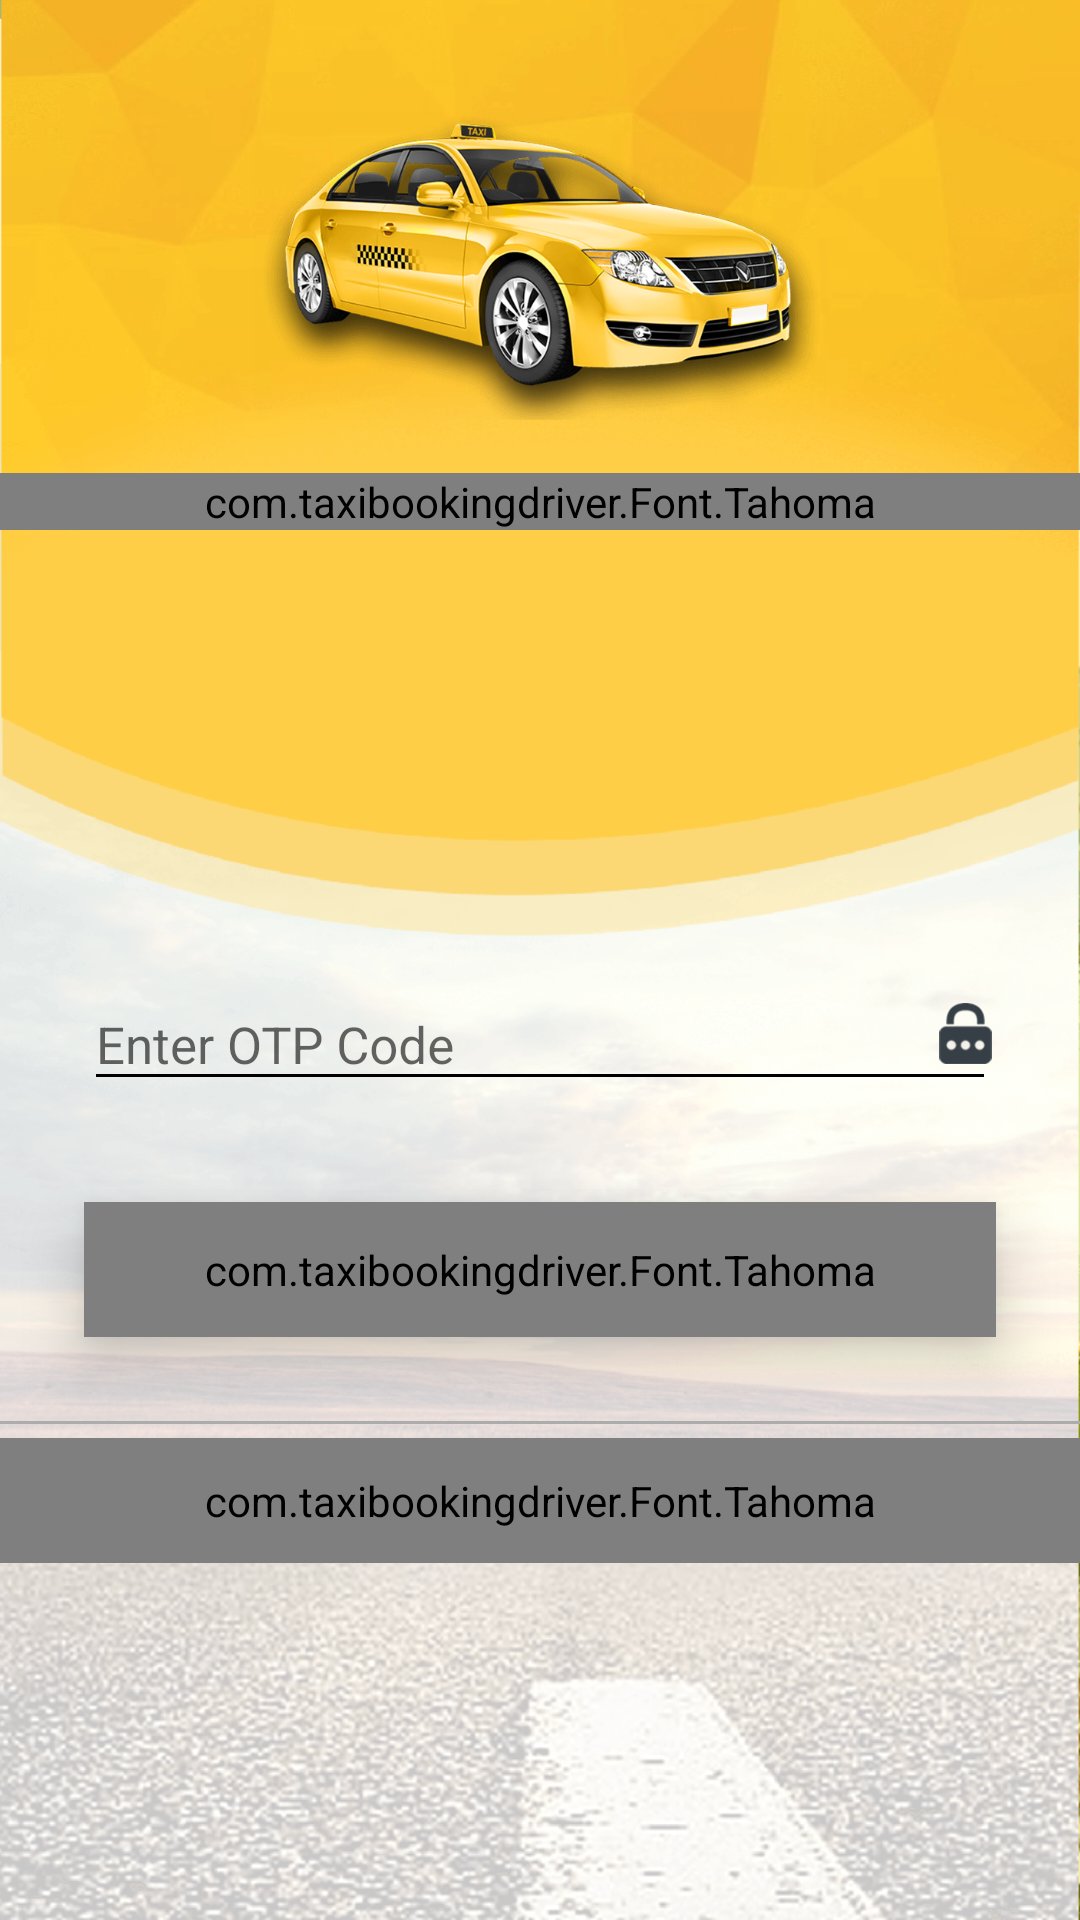

Where to tap for icons on this 1080w x 1920h app screen, as (x=x, y=y):
otp password: (x=965, y=1033)
